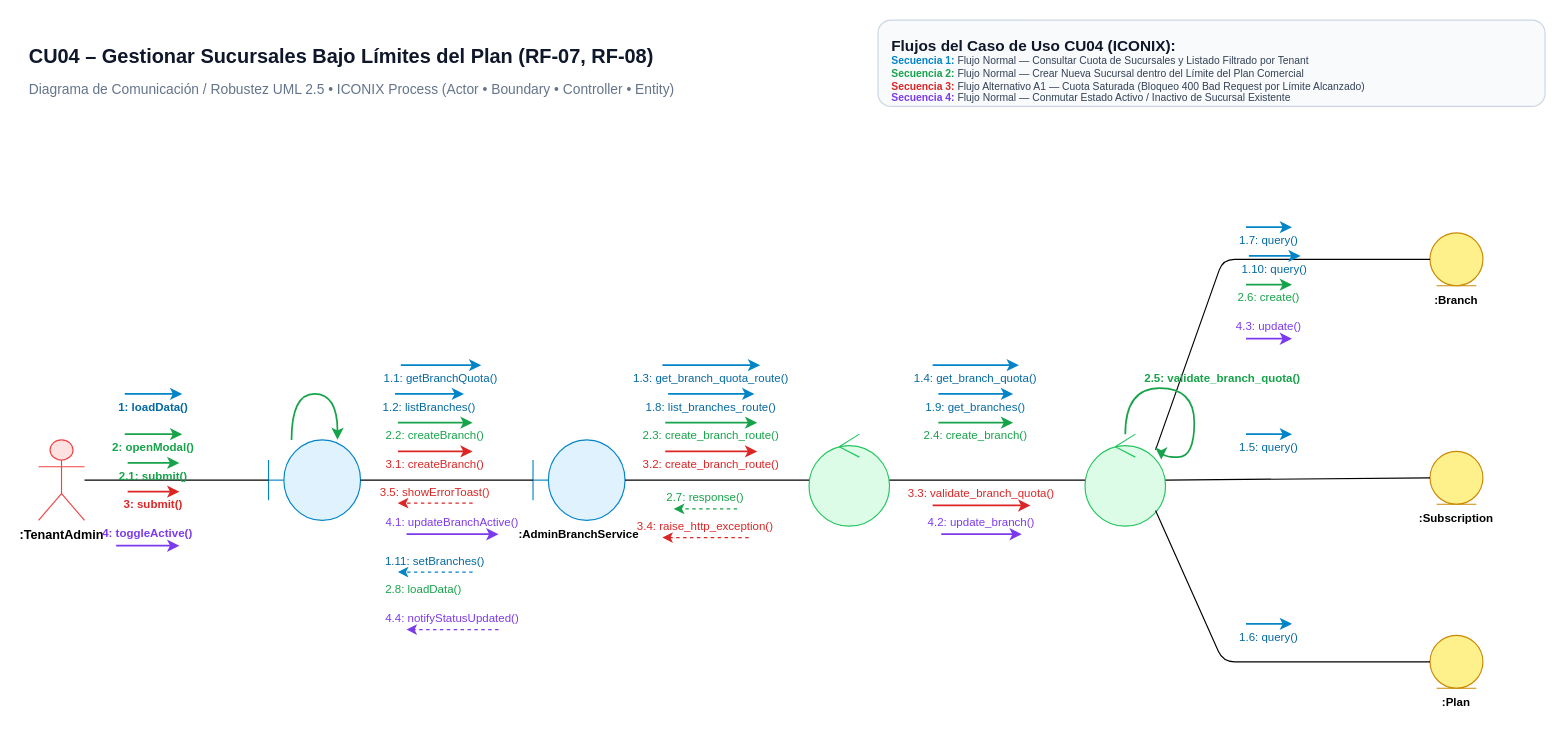
Some shapes in this 1565 by 730 pixel diagram are drawn without their labels. The shapes that lost their labels are listed below. From the top down, each one's centre as x and y in pixels, then its label:
[314,479]: :AdminBranchPageComponent
[849,479]: :BranchRoutes
[1125,479]: :BranchService
